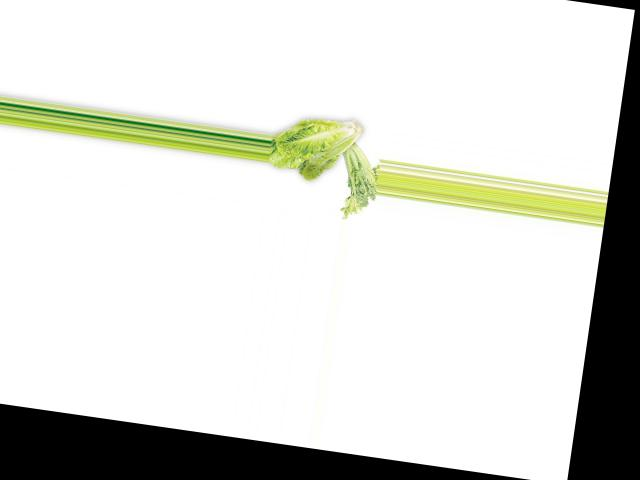lettuce: (264, 112, 368, 195)
